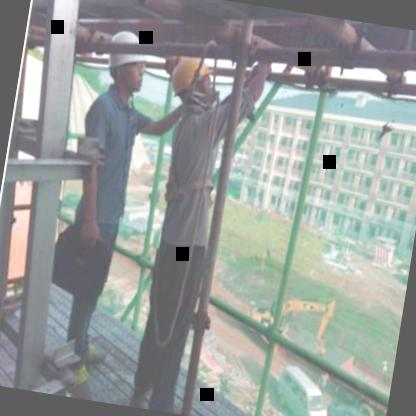helmet: (98, 22, 157, 92), (162, 52, 222, 112)
